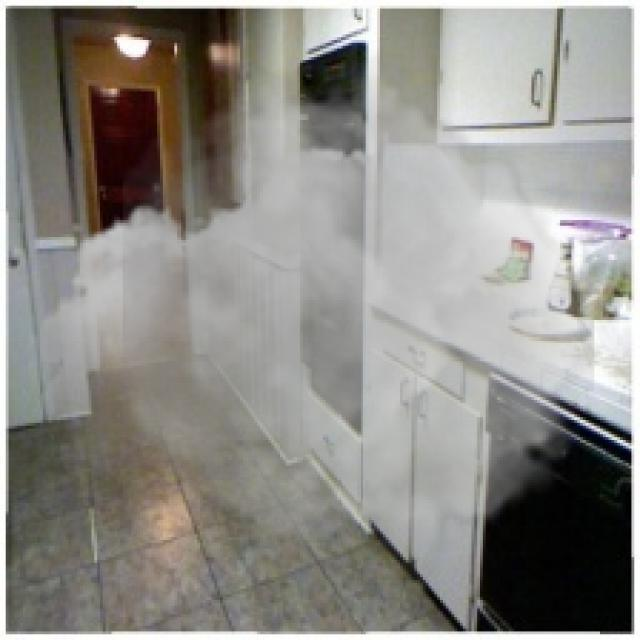Smoke: (28, 48, 594, 583)
